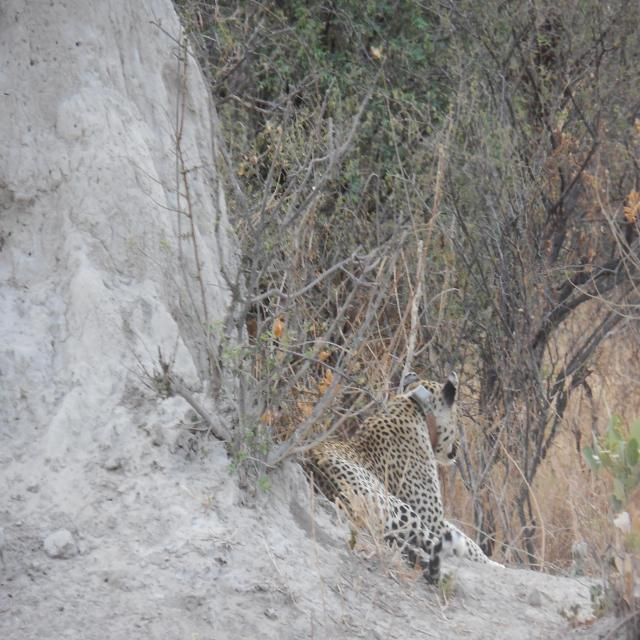Leopard: (310, 362, 502, 581)
